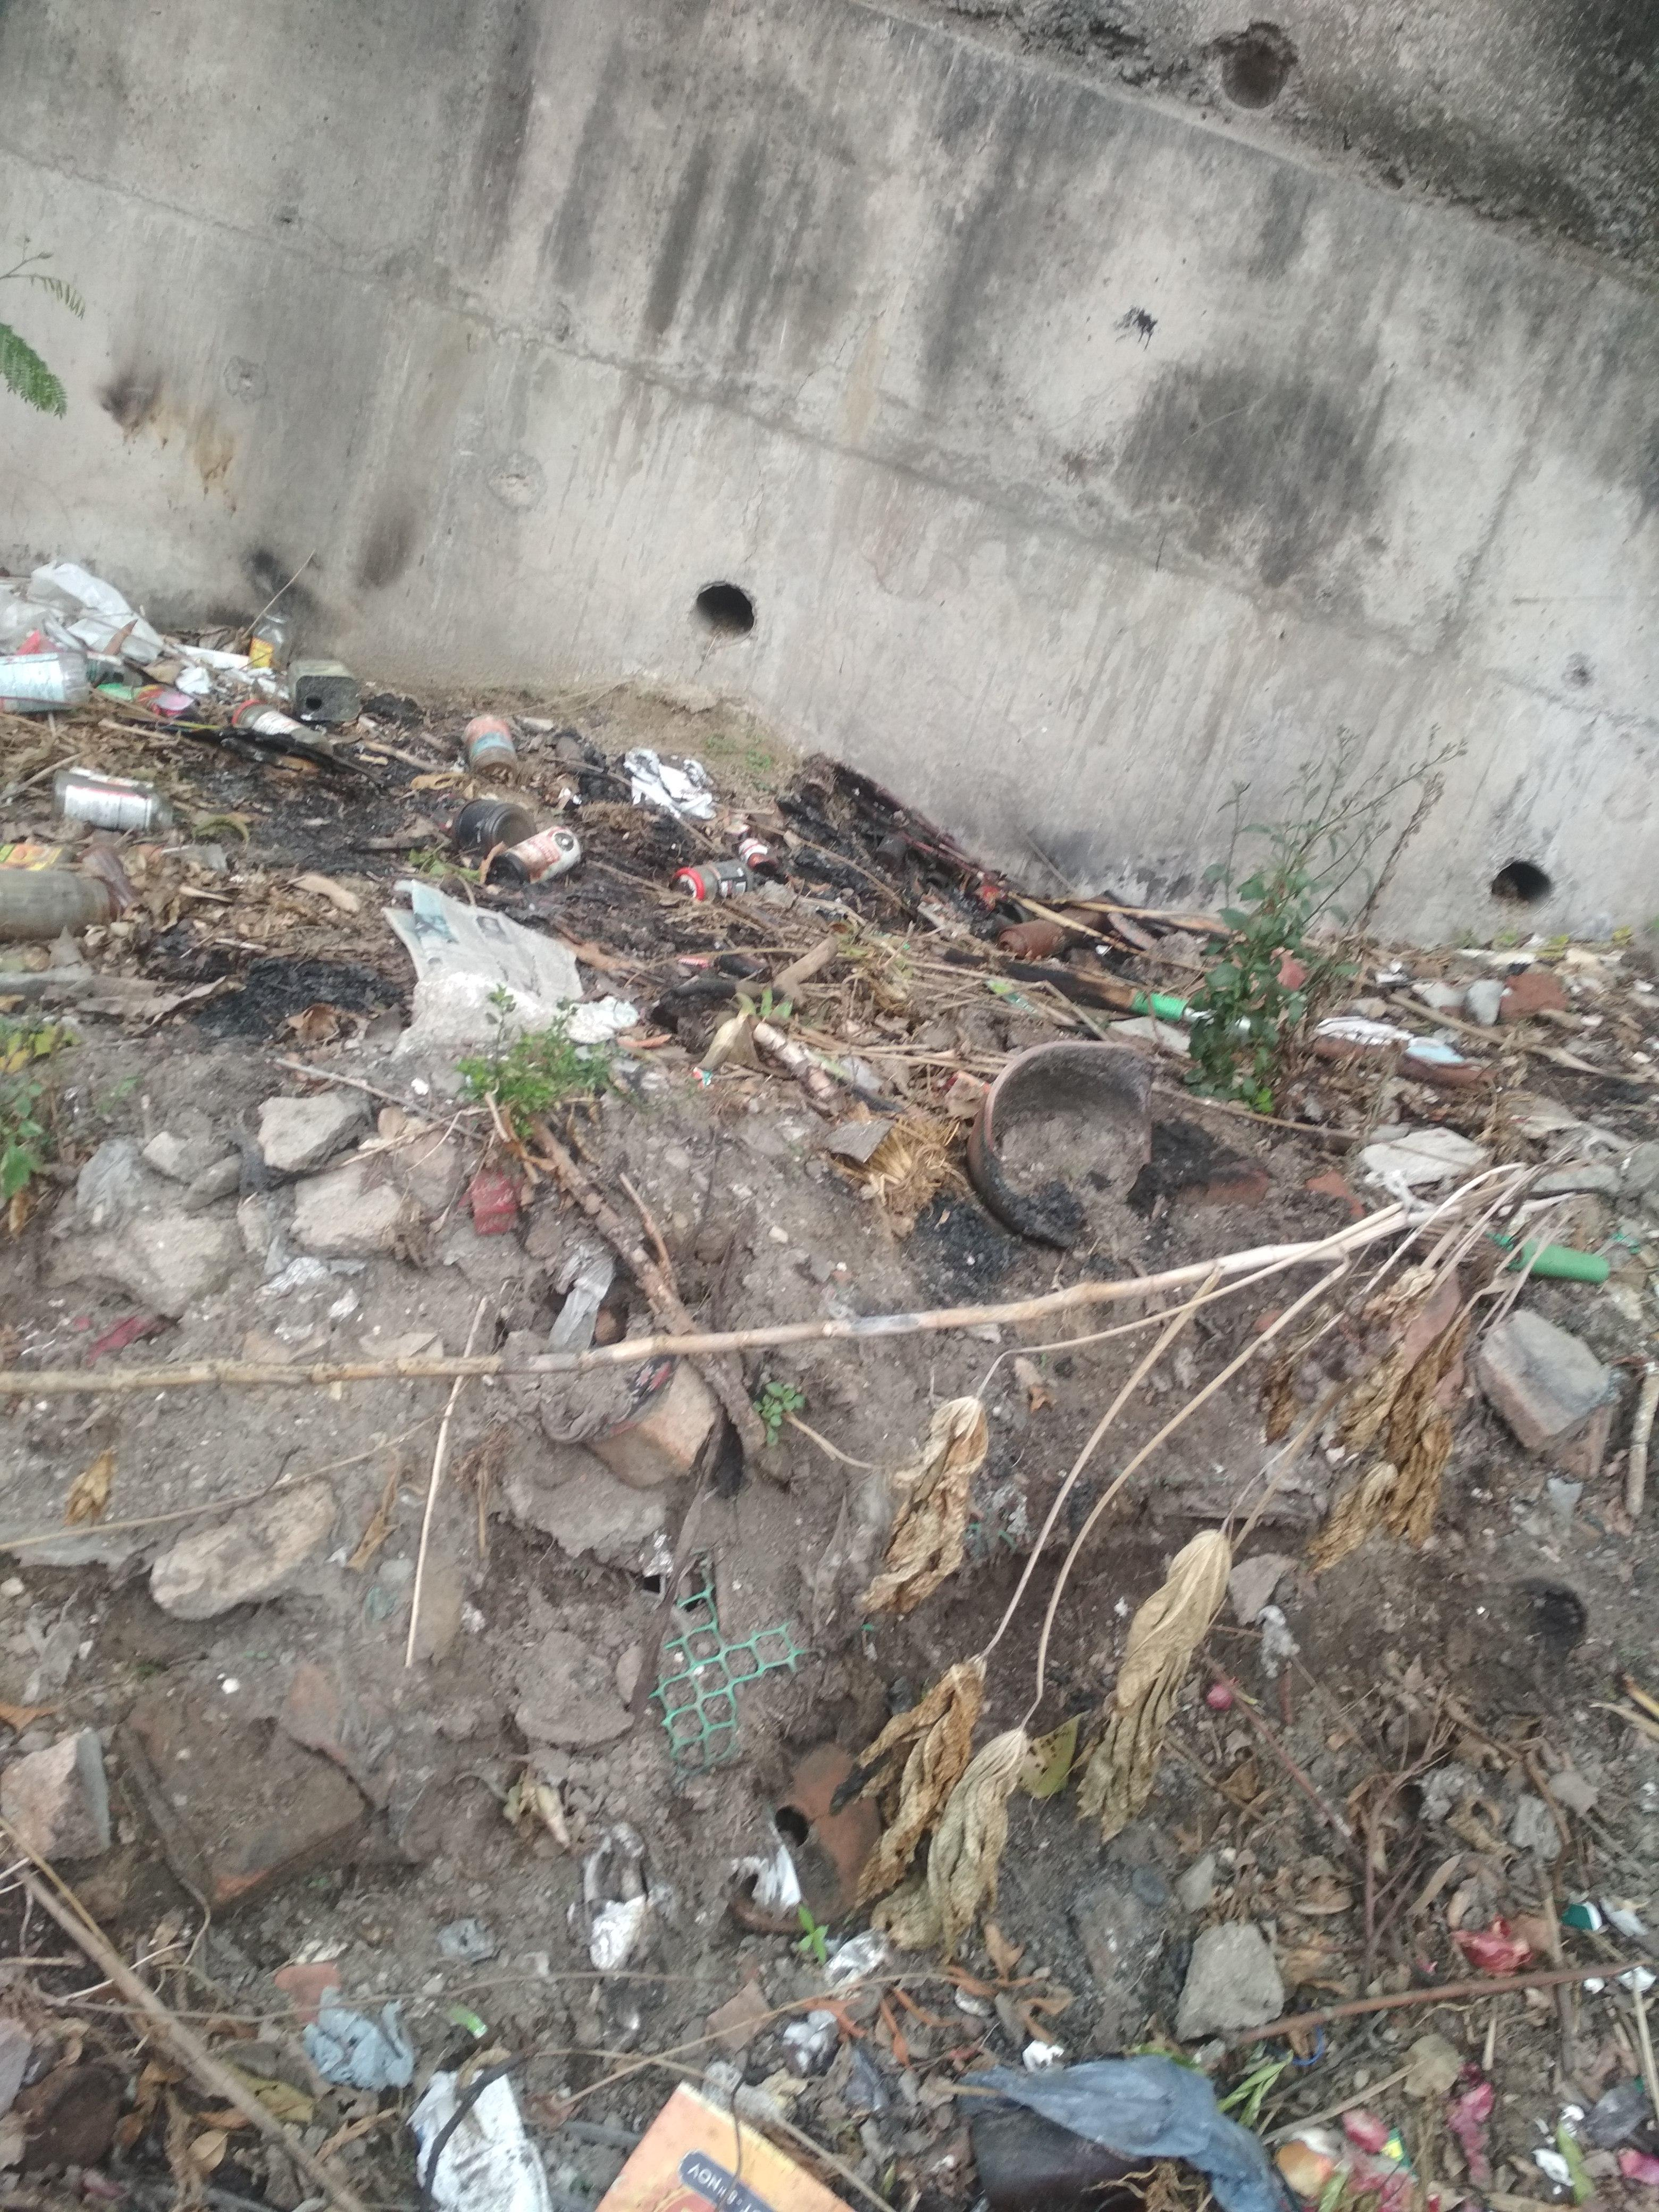dw: (19, 523, 1659, 1101)
